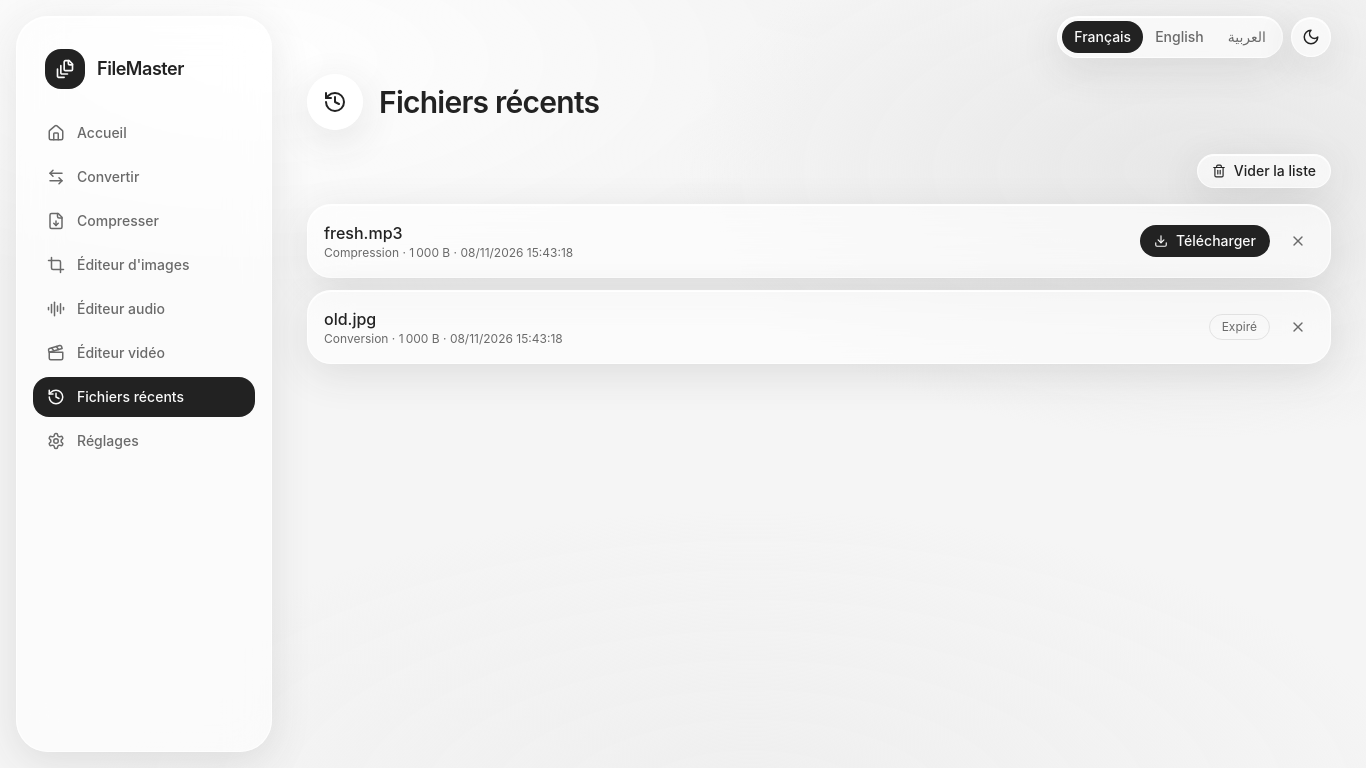
it: recent files › lists processed files and marks expired ones
Expected: the text "Expiré" is shown, [1209,314,1270,340]
Expected: the number of links "Télécharger" is 1, [1140,225,1270,257]
Click the button "Vider la liste".
click(1264, 171)  # box [1197,154,1331,188]
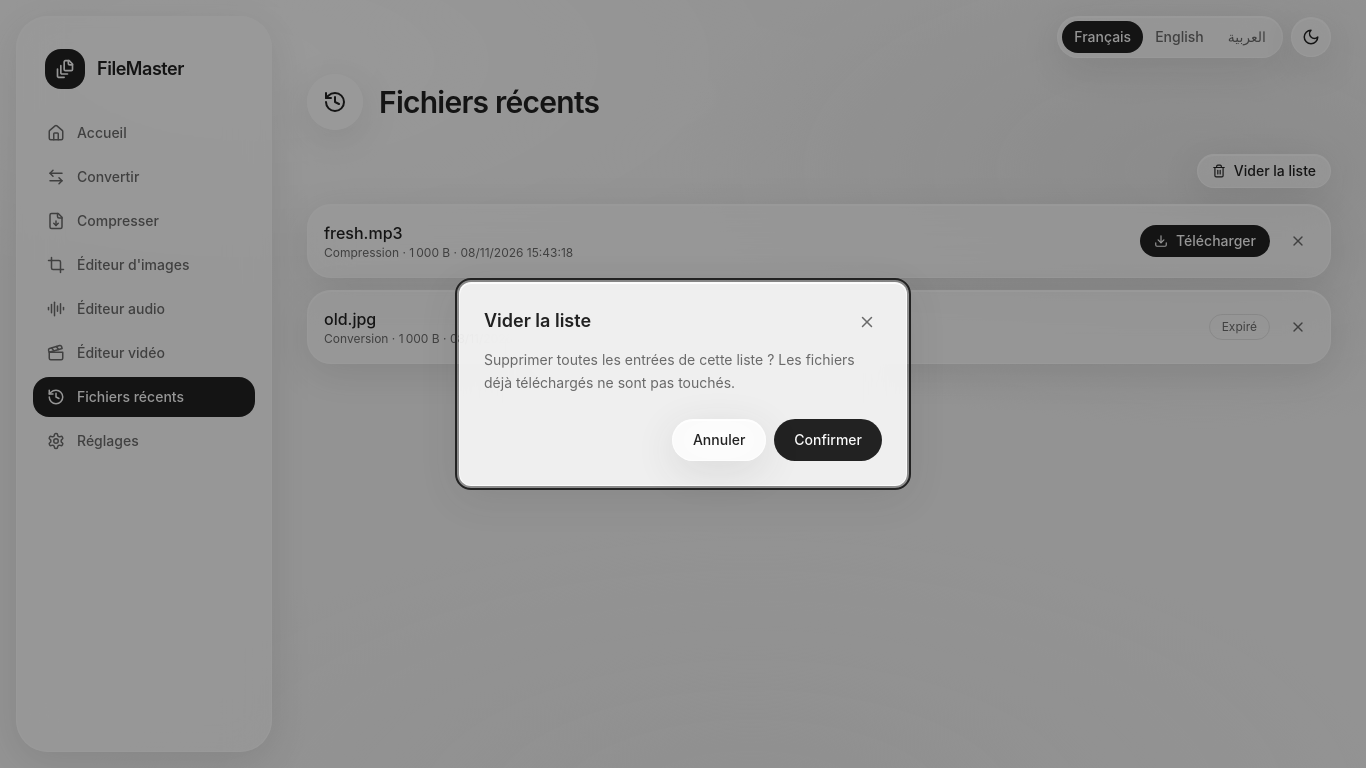
Click the button "Confirmer".
click(828, 440)  # box [774,419,882,461]
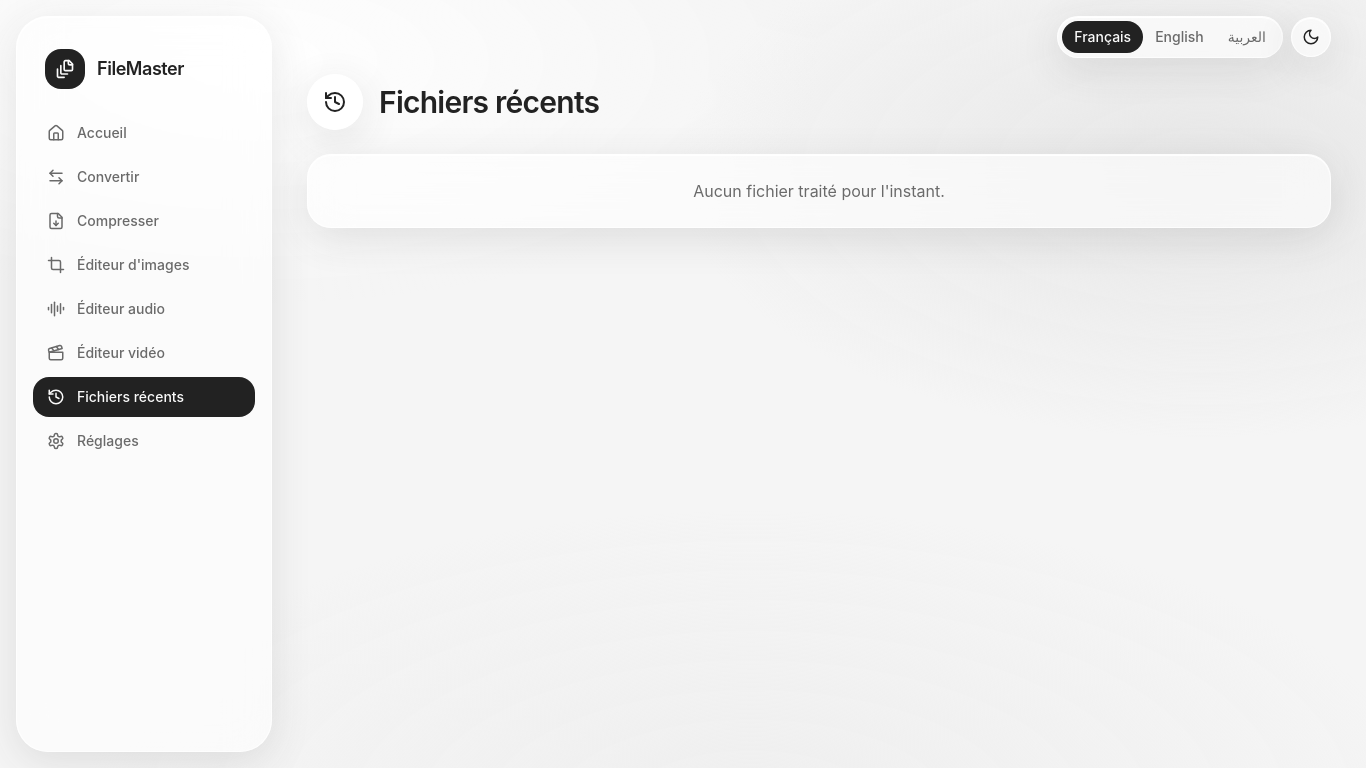
Result: the text "Aucun fichier traité pour l'instant." is shown at [307,154,1331,228]
